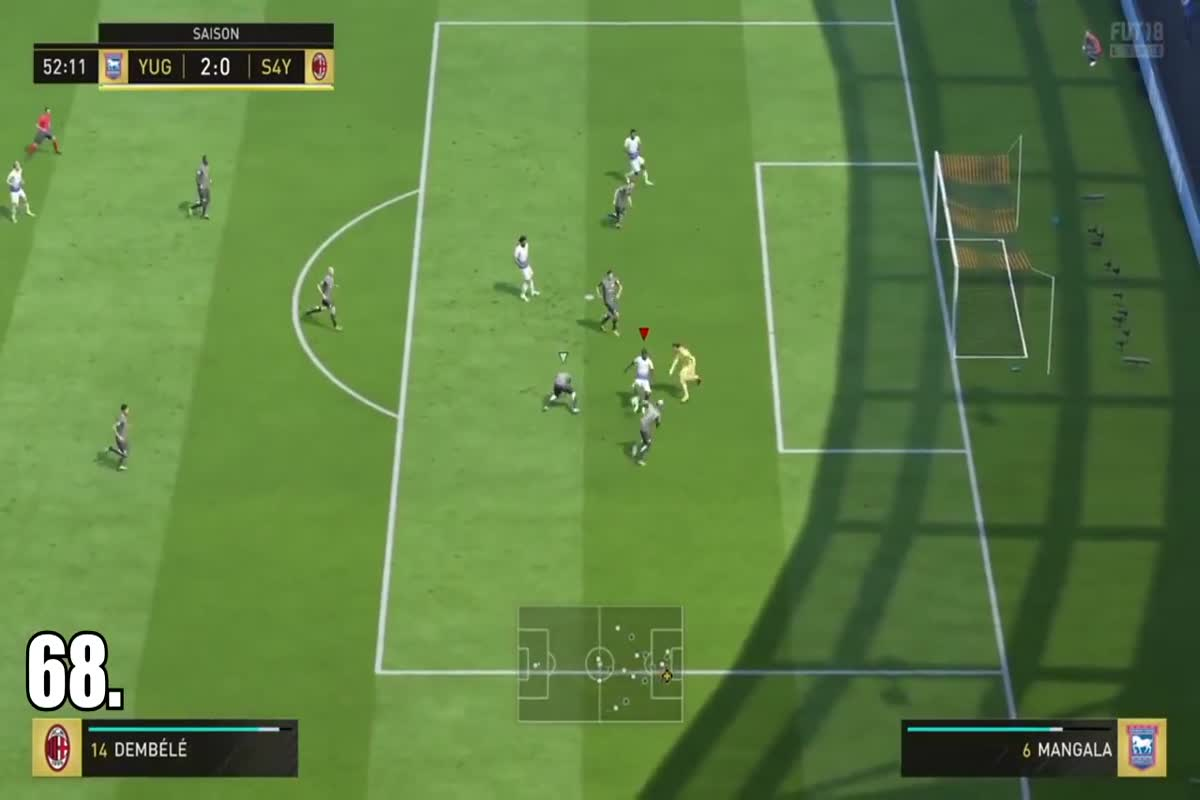ball: (628, 393, 644, 407)
